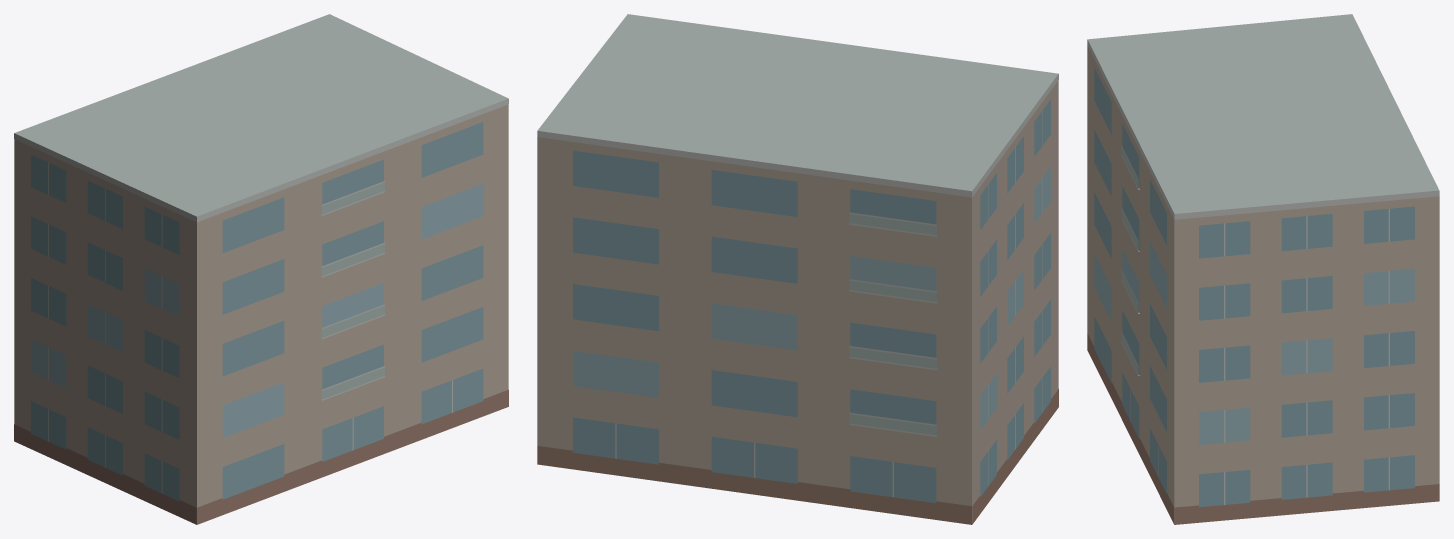
The model's file is survey-upis-32698531.glb.
3 renders of one model, left to right at view 1: azimuth 30°, elevation 25°; view 2: azimuth 150°, elevation 25°; view 3: azimuth 270°, elevation 25°, orthographic. The views are drawn at different scales.
Parts seen in each view (by area): view 1: survey-upis-32698531.tmp; view 2: survey-upis-32698531.tmp; view 3: survey-upis-32698531.tmp.
Part boxes in pixels (bbox=[...]): survey-upis-32698531.tmp: bbox=[14, 14, 508, 524]; survey-upis-32698531.tmp: bbox=[537, 14, 1058, 524]; survey-upis-32698531.tmp: bbox=[1087, 14, 1439, 524].
Size of the model in its own units: 18.09 by 13.1 by 13.46.
